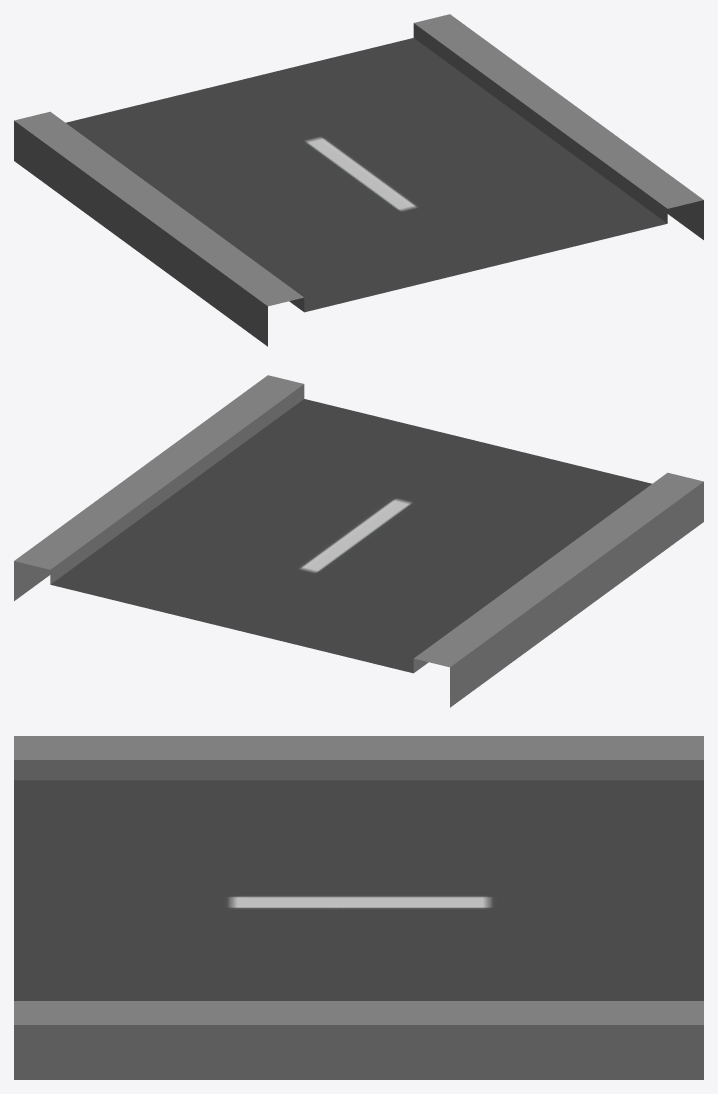
The model's file is Road straight.fbx.
3 views of the same model, one above another, from view 1: azimuth 30°, elevation 25°; view 2: azimuth 150°, elevation 25°; view 3: azimuth 270°, elevation 25° (orthographic). The views are drawn at different scales.
Parts seen in each view (by area): view 1: Road straight mesh; view 2: Road straight mesh; view 3: Road straight mesh.
Boxes of the visible parts, <box> form: Road straight mesh: <box>14,14,703,346</box>; Road straight mesh: <box>14,375,703,707</box>; Road straight mesh: <box>14,736,703,1079</box>.
Bounding box in the file's own units: 1 × 0.0886 × 1.01.
